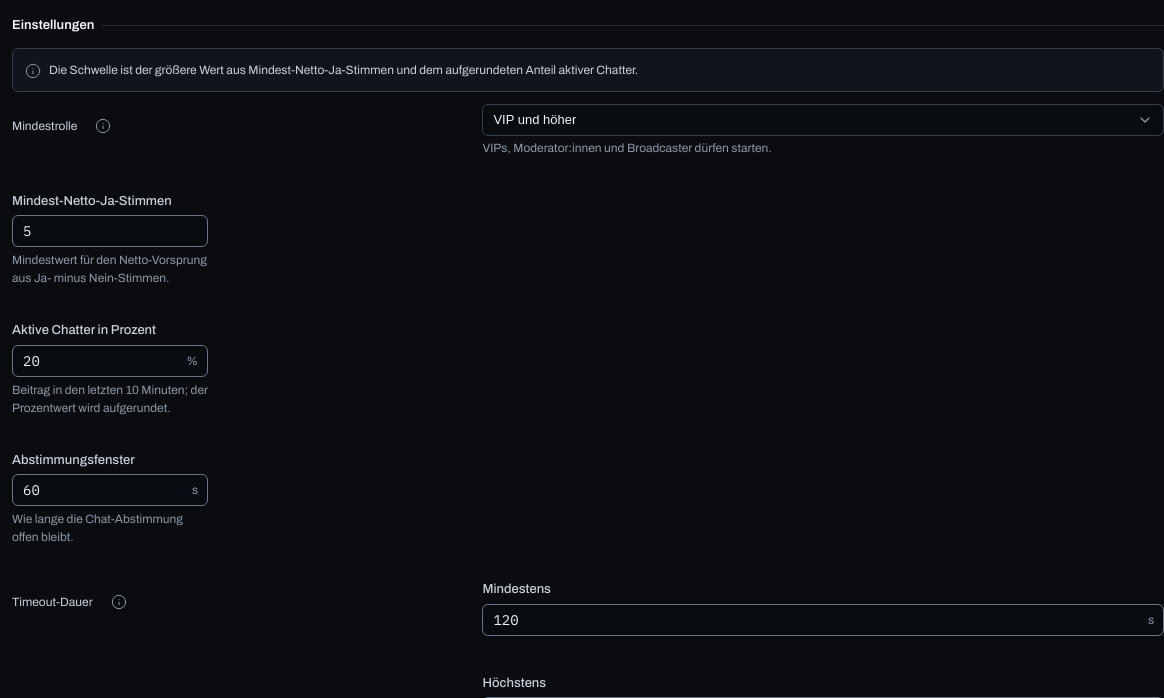
it: votekick starter role setting › shows and saves the localized role select in de
Click the dropdown named "Mindestrolle": (535, 120) [482,104,1163,136]
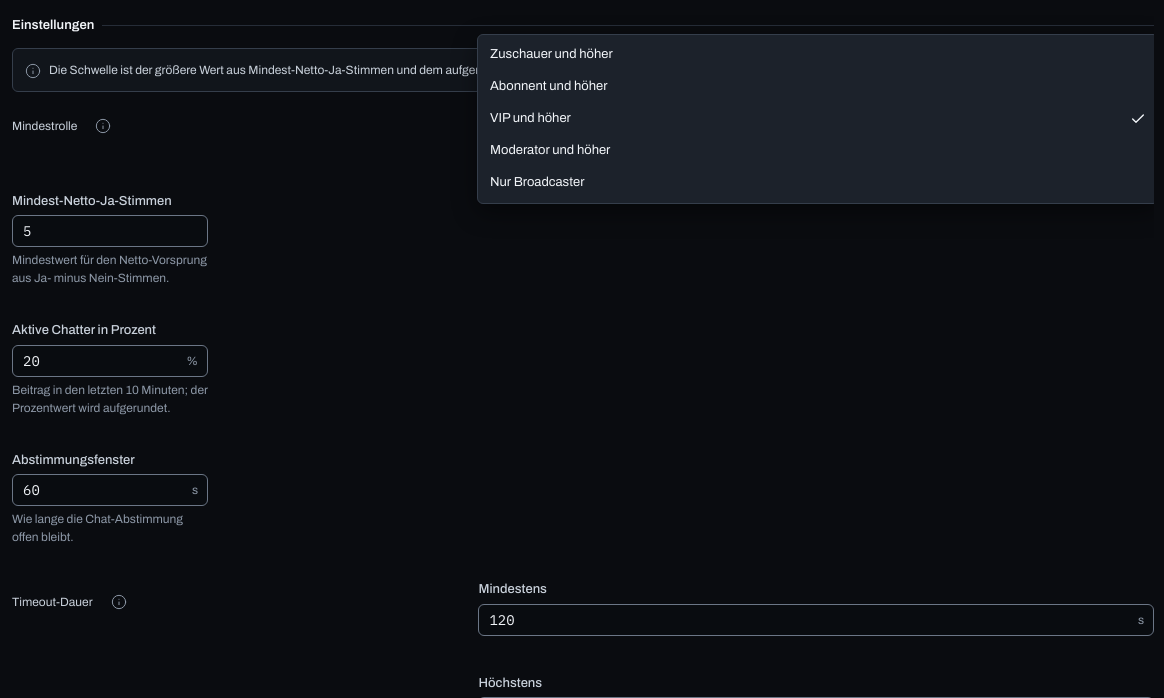
Click the option "Zuschauer und höher": (551, 54) [490,47,613,61]
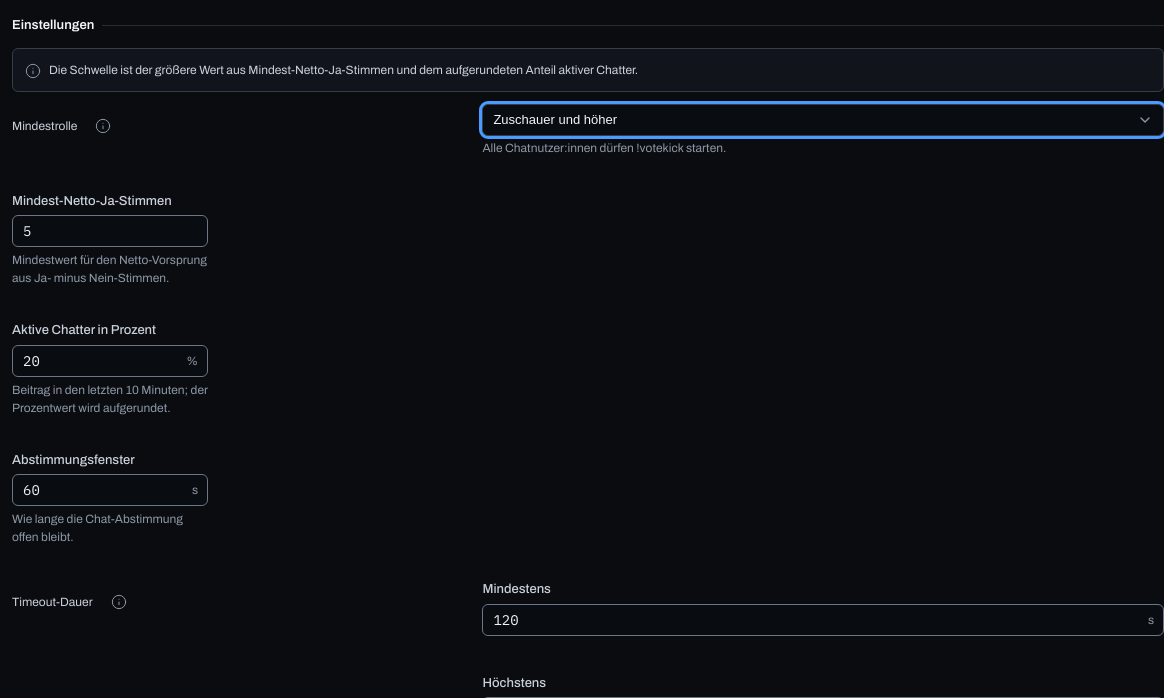
Expected: the dropdown named "Mindestrolle" shows "Zuschauer und höher", [482,104,1163,136]
